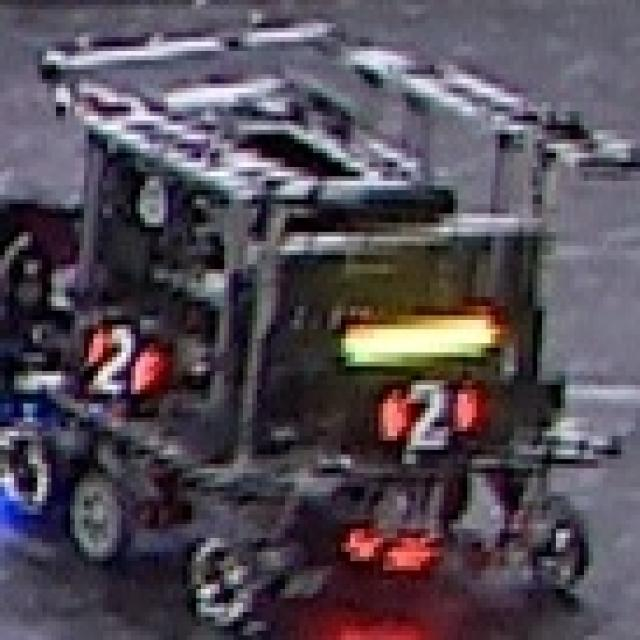R2: (367, 364, 498, 448), (63, 313, 166, 387)
